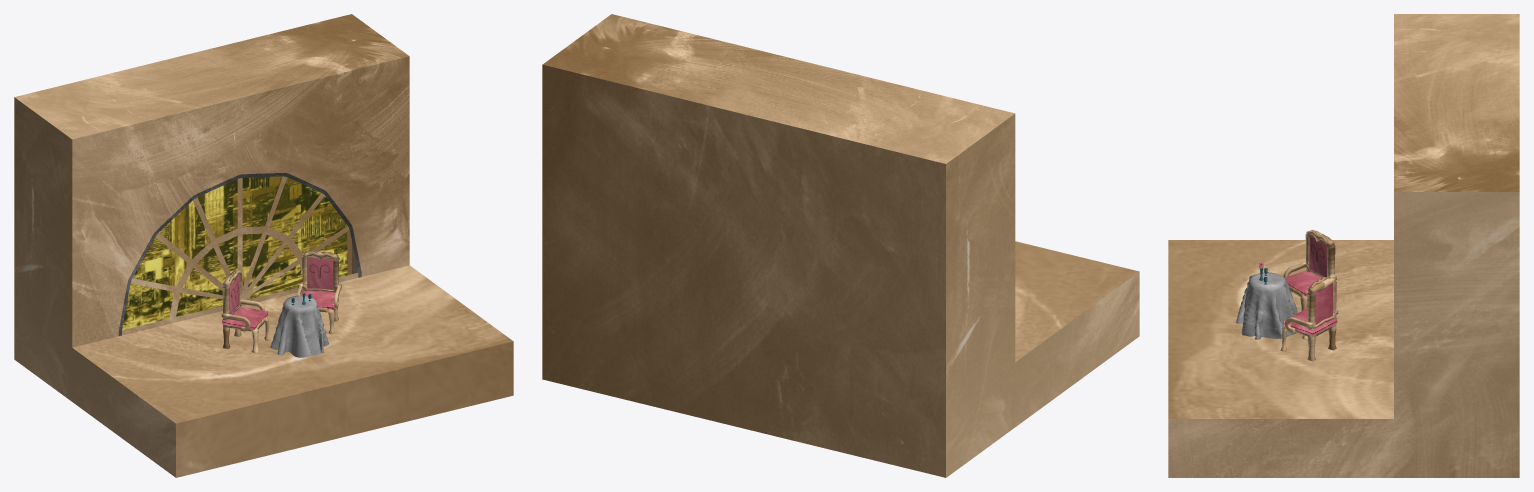
3 renders of one model, left to right at view 1: azimuth 30°, elevation 25°; view 2: azimuth 150°, elevation 25°; view 3: azimuth 270°, elevation 25°, orthographic. The views are drawn at different scales.
Parts seen in each view (by area): view 1: Building, Skyline, Table, Chair, Chair.001, ChairBackCushion.001, ChairSeatCushion; view 2: Building; view 3: Building, Table, Chair.001, Chair, ChairBackCushion, ChairBackCushion.001, ChairSeatCushion, ChairSeatCushion.001.
Boxes of the visible parts, left/top/right/bottom form: Building: left=14, top=14, right=513, bottom=477; Skyline: left=122, top=176, right=347, bottom=330; Table: left=270, top=295, right=328, bottom=357; Chair: left=221, top=270, right=270, bottom=353; Chair.001: left=296, top=251, right=341, bottom=334; ChairBackCushion.001: left=307, top=257, right=333, bottom=289; ChairSeatCushion: left=222, top=306, right=267, bottom=329; Building: left=542, top=14, right=1139, bottom=477; Building: left=1168, top=14, right=1519, bottom=477; Table: left=1236, top=272, right=1297, bottom=339; Chair.001: left=1280, top=277, right=1338, bottom=361; Chair: left=1283, top=230, right=1336, bottom=310; ChairBackCushion: left=1309, top=236, right=1326, bottom=277; ChairBackCushion.001: left=1315, top=283, right=1332, bottom=324; ChairSeatCushion: left=1284, top=270, right=1321, bottom=296; ChairSeatCushion.001: left=1283, top=308, right=1337, bottom=335.
Bounding box in the file's own units: 0.6627 × 0.4939 × 0.5499.
Materials: 8 (8 with a texture image).
